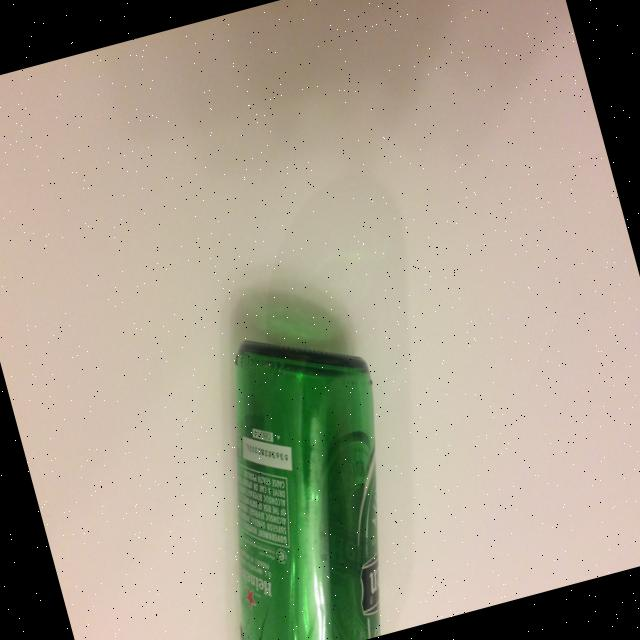glass: (122, 160, 504, 640)
